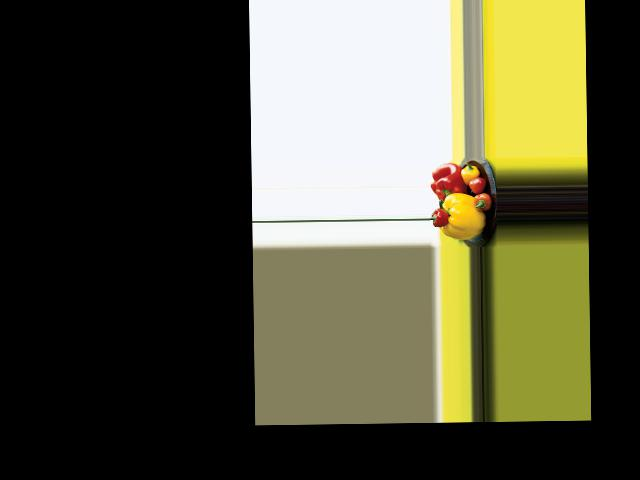bell_pepper: (460, 163, 478, 183)
